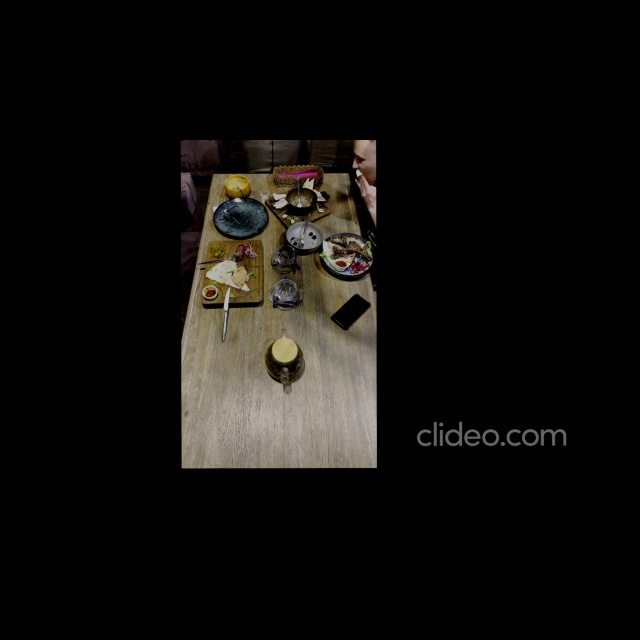Том Ям(пустая тарелка): (265, 186, 332, 230)
закуска(пустая тарелка): (201, 240, 264, 306)
мясо(пустая тарелка): (319, 233, 377, 278)
салат цезарь: (286, 222, 323, 254)
салат(пустая тарелка): (213, 197, 268, 238)
сырный суп(пустая тарелка): (224, 174, 250, 200)
